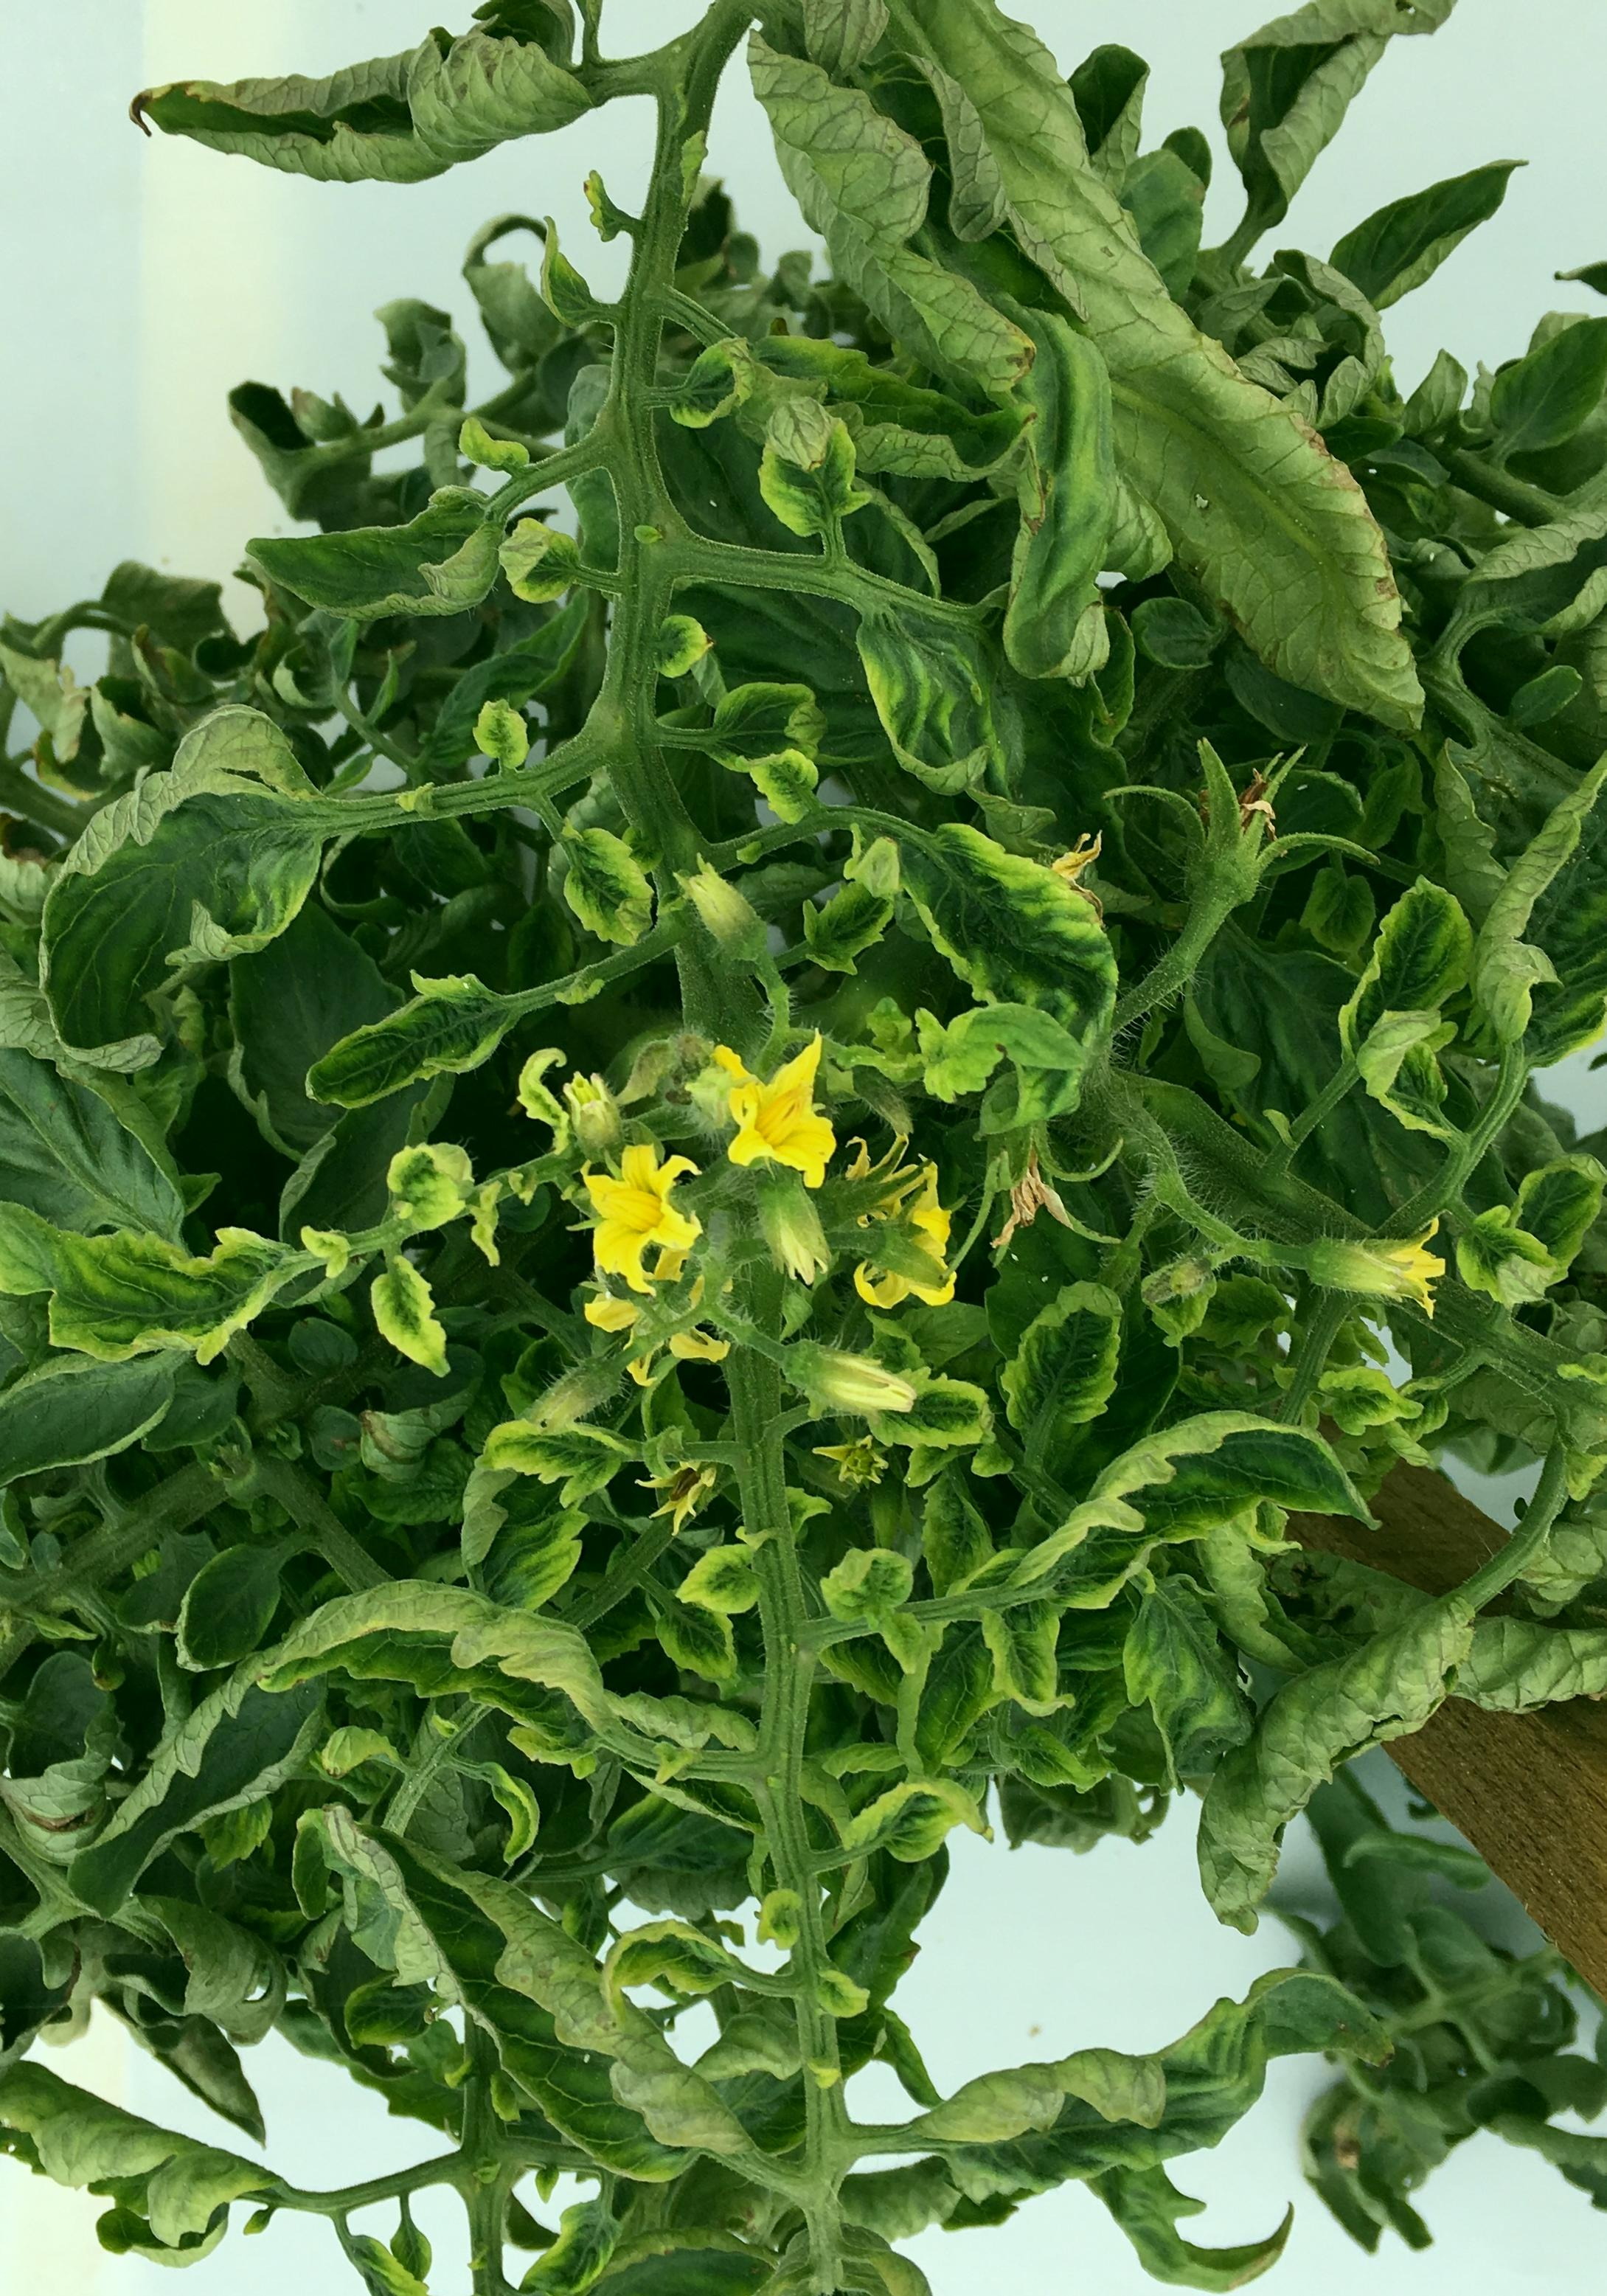Tomato leaf yellow virus: (30, 658, 351, 1110), (141, 1586, 729, 1828), (967, 1389, 1384, 1715), (858, 801, 1150, 1141), (0, 1118, 330, 1399), (827, 600, 1131, 885), (1331, 841, 1515, 1146), (989, 1281, 1155, 1459)
